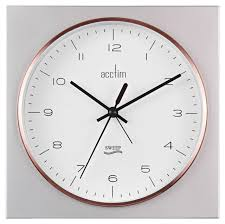alarm_clock: (15, 17, 207, 206), (20, 17, 207, 206)
